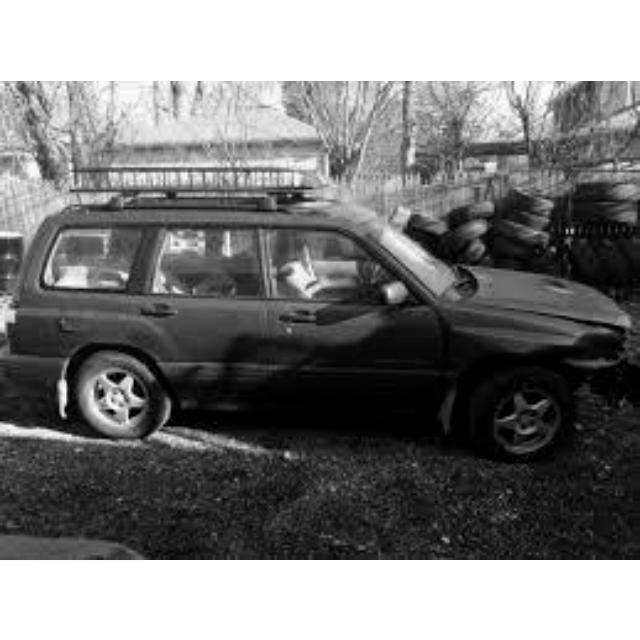fender-dent: (520, 318, 621, 367)
